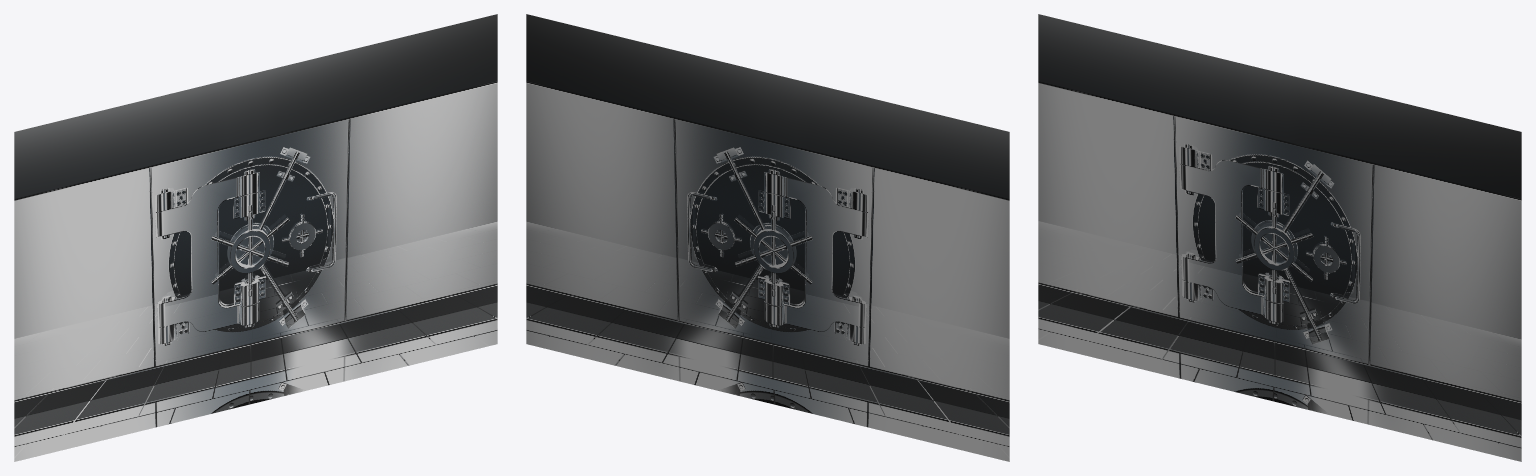
Rendered from kinko_layer_A.fbx.
3 views of the same model, side by side, from view 1: azimuth 30°, elevation 25°; view 2: azimuth 150°, elevation 25°; view 3: azimuth 330°, elevation 25° (orthographic).
Visible parts, largest first — view 1: kinko_layer_A; view 2: kinko_layer_A; view 3: kinko_layer_A.
Boxes of the visible parts, x1,y1,x2,y2 form: kinko_layer_A: (14, 14, 497, 461); kinko_layer_A: (526, 14, 1009, 461); kinko_layer_A: (1038, 14, 1521, 461).
Bounding box in the file's own units: 95 × 62 × 1.42e-14.
Materials: 1 (1 with a texture image).
